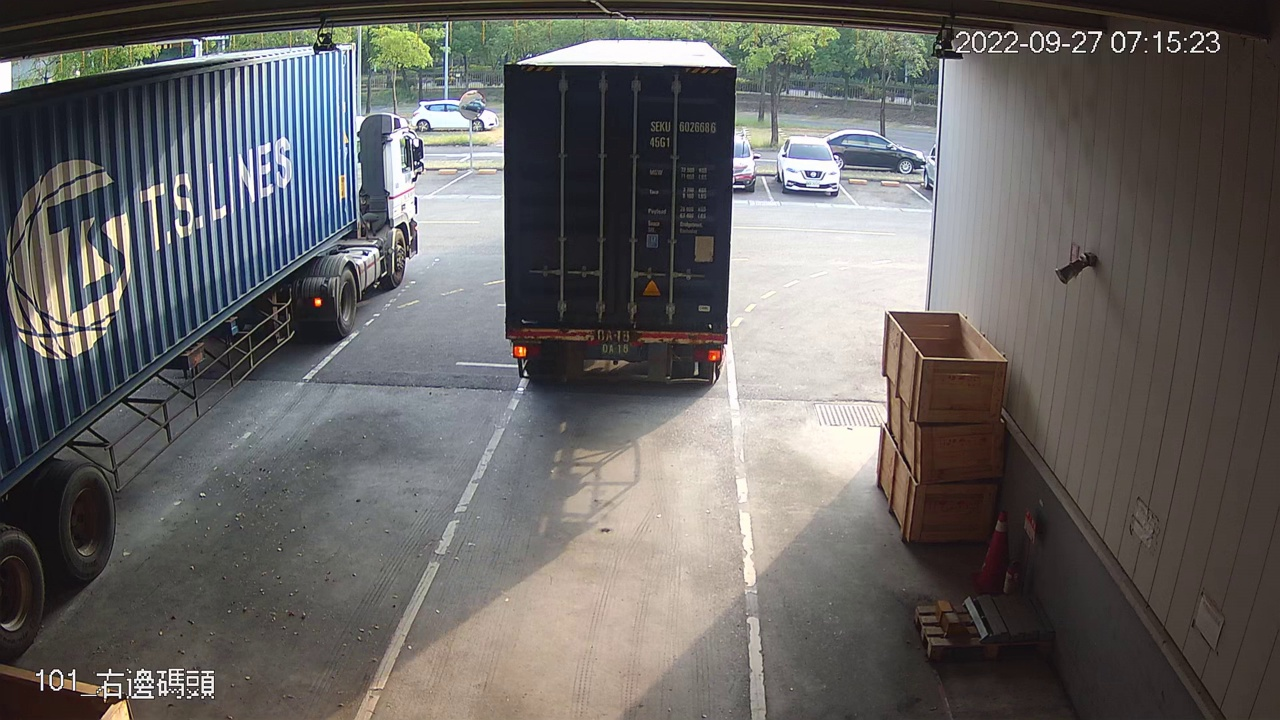container: (646, 114, 722, 154)
